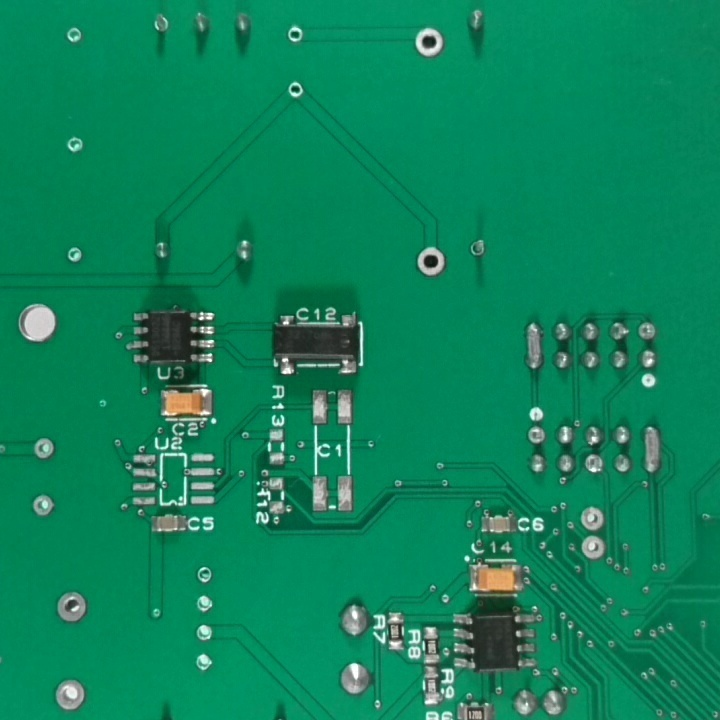F: (48, 675, 90, 715), (49, 591, 93, 626), (413, 243, 451, 282), (411, 26, 447, 58), (576, 502, 608, 534), (578, 534, 609, 563), (28, 435, 58, 464), (30, 492, 57, 521), (189, 652, 220, 675), (148, 11, 173, 38), (191, 595, 218, 618), (582, 454, 607, 478), (192, 565, 217, 588), (636, 319, 659, 344), (190, 625, 217, 646), (525, 424, 547, 449), (61, 26, 87, 47), (468, 239, 491, 262), (64, 244, 85, 266), (64, 133, 84, 156), (286, 25, 305, 45), (286, 81, 305, 100)
P: (521, 316, 548, 376), (640, 422, 664, 480)
